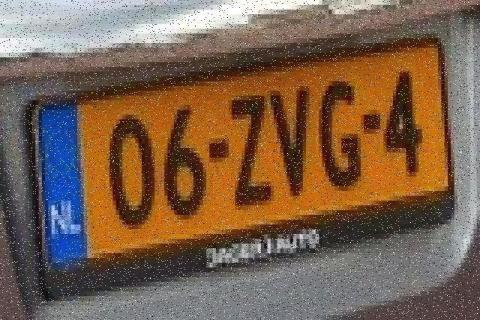LicensePlate: (28, 40, 456, 276)
